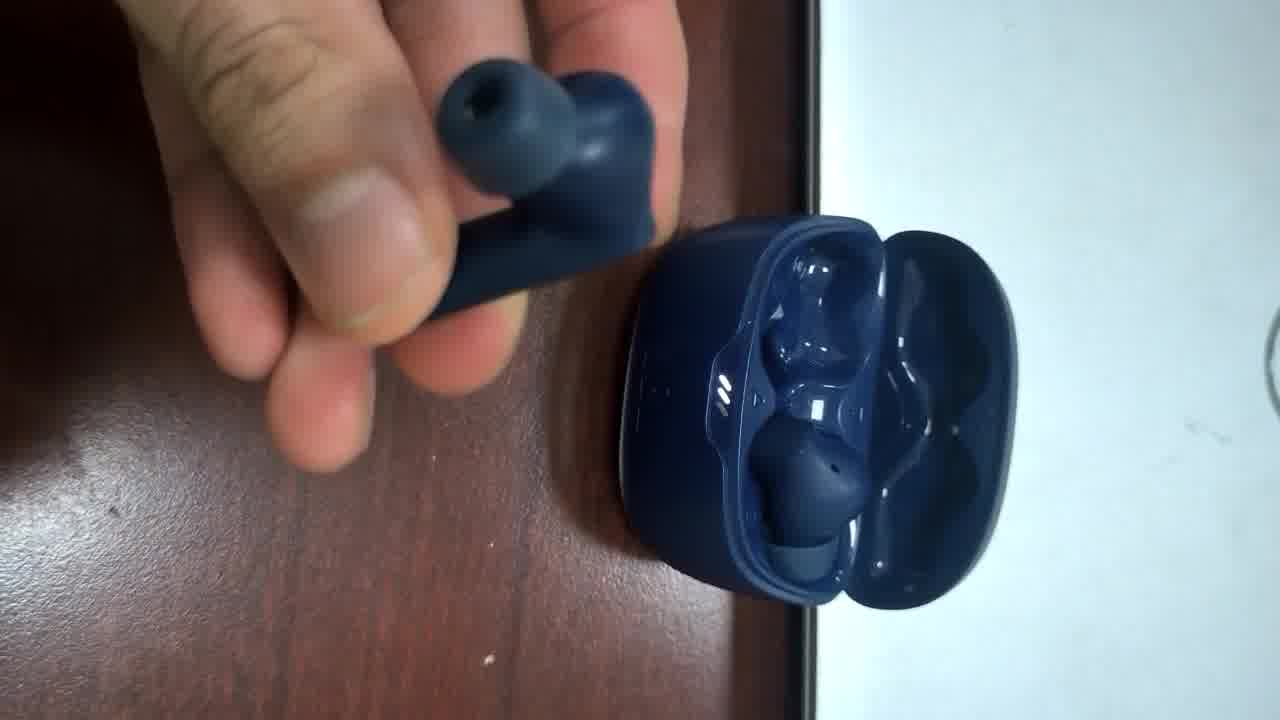Case: (618, 216, 1015, 607)
Earbud: (432, 58, 654, 317), (750, 414, 870, 581), (854, 429, 856, 434)
Empty_Slot: (746, 220, 880, 409)
